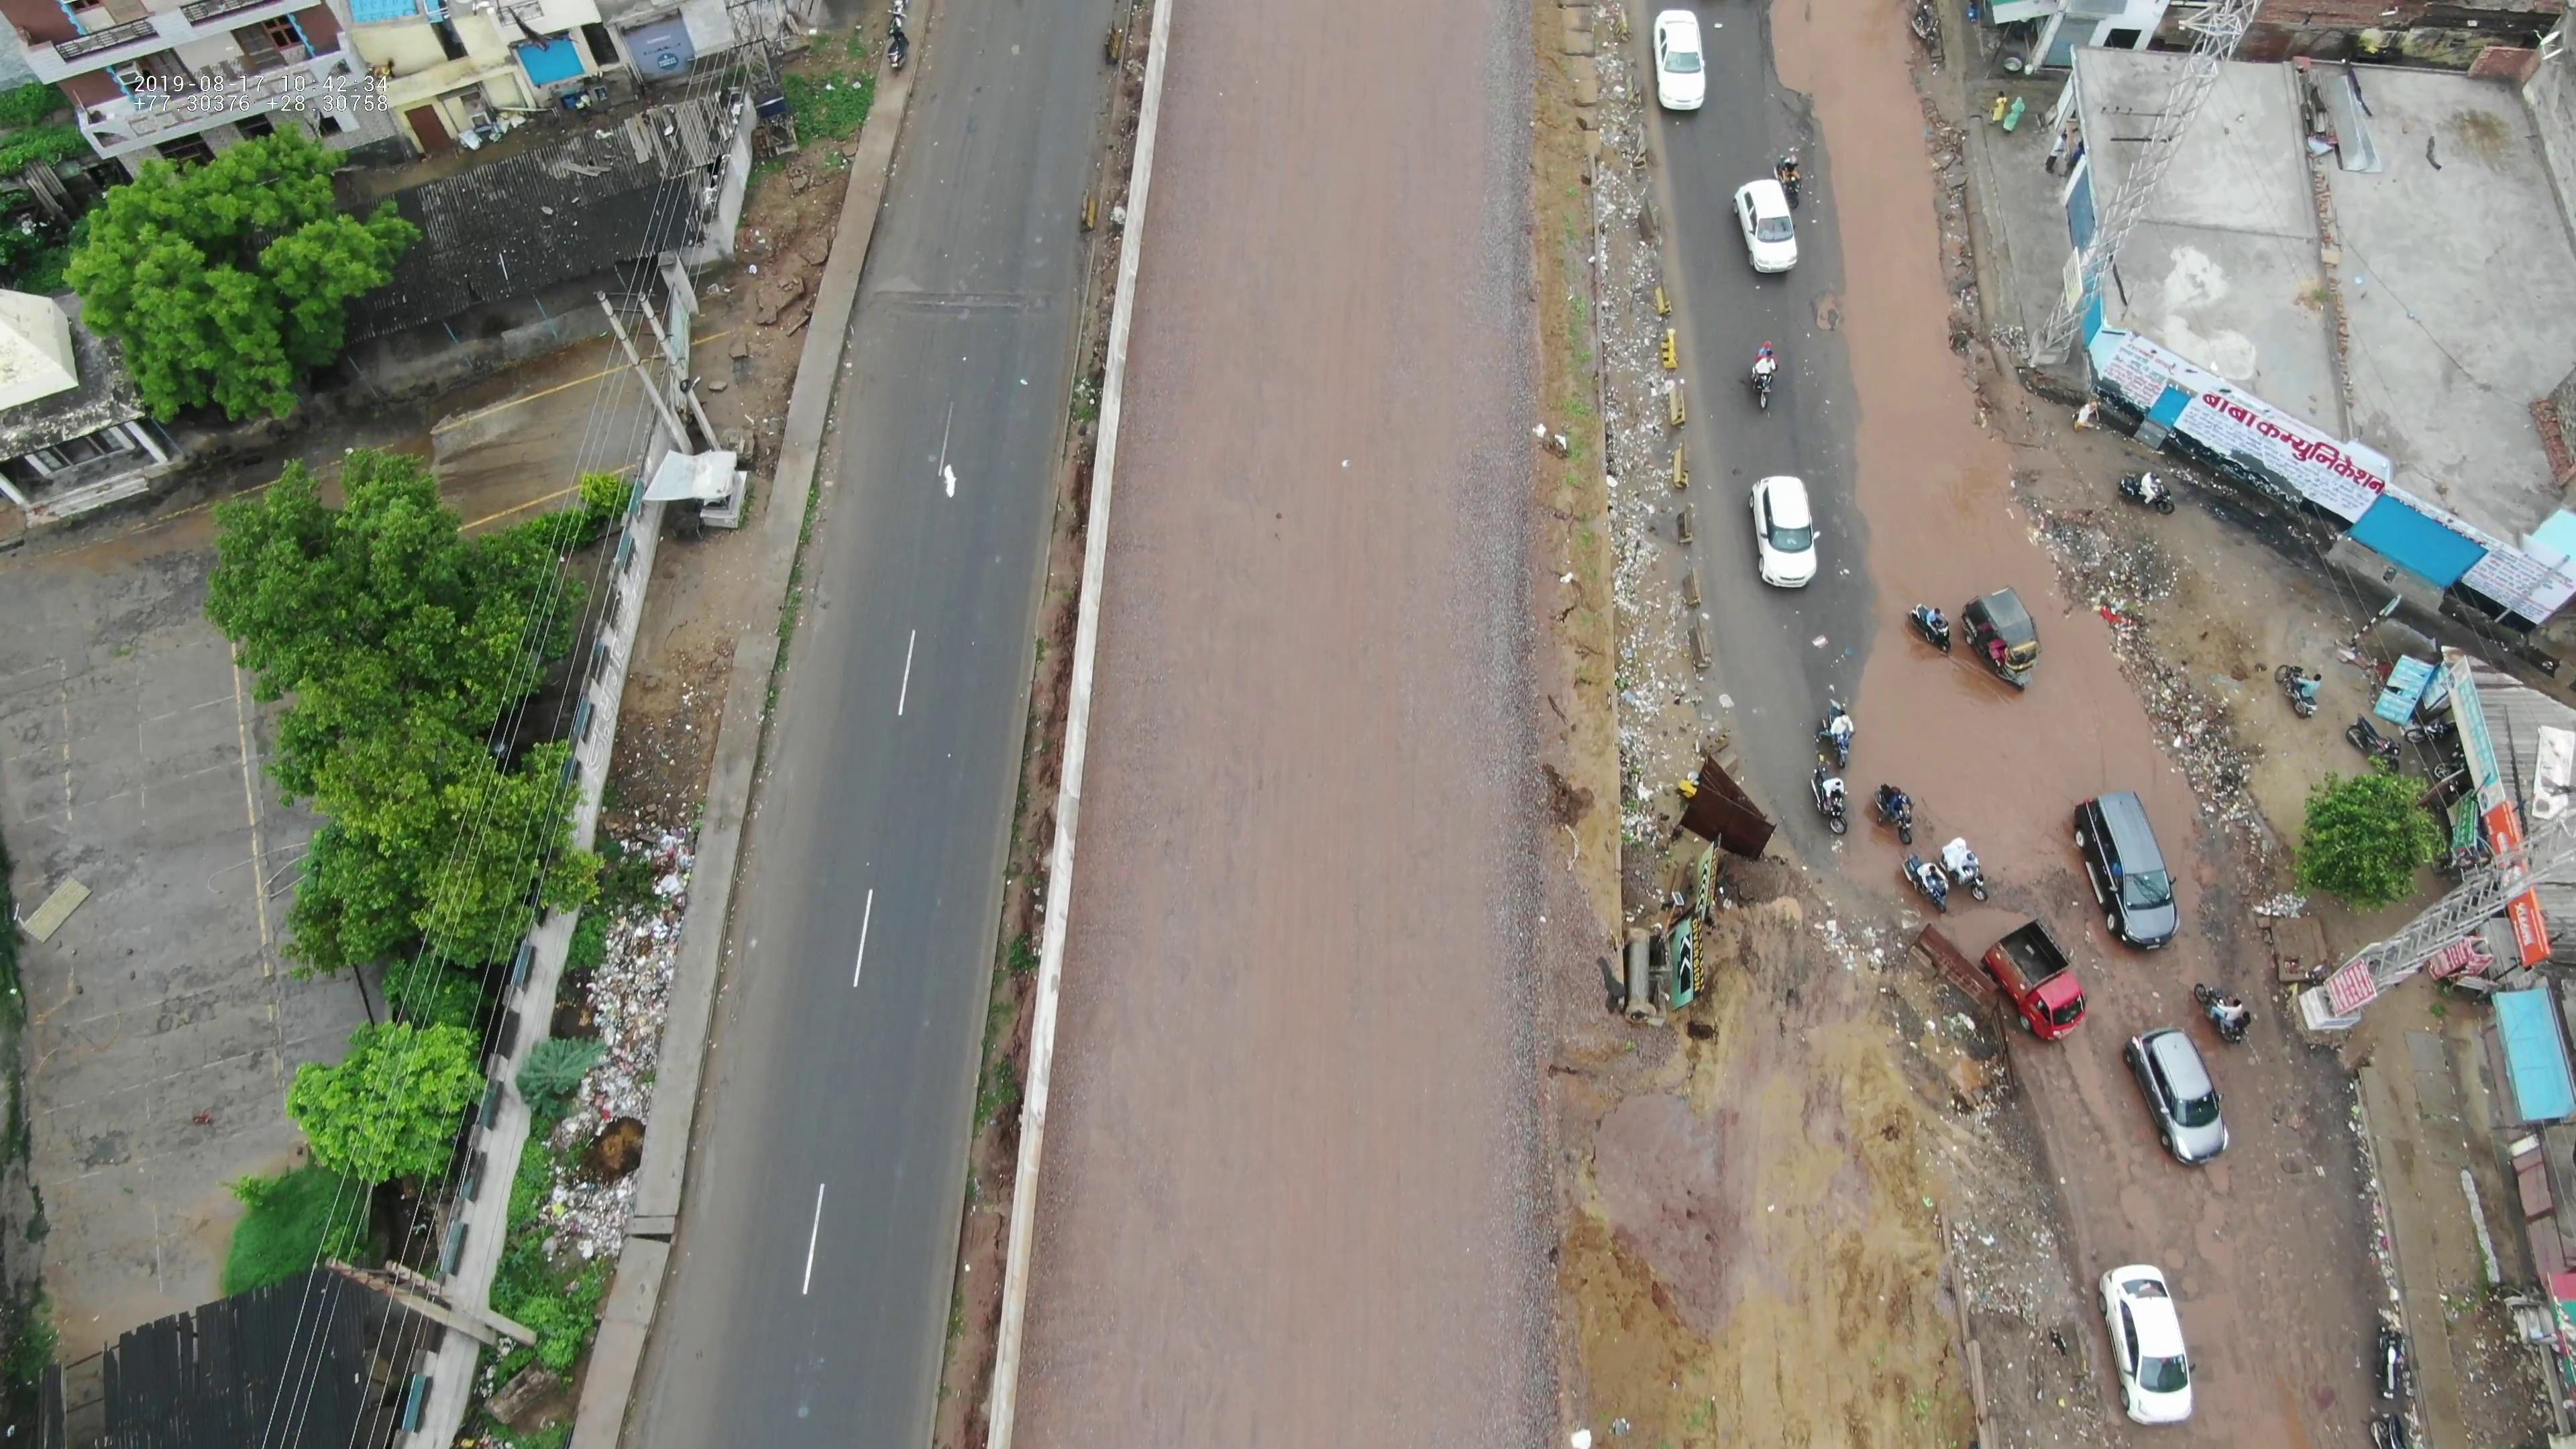Potholes: (885, 258, 1076, 364)
Waterlogging: (1824, 412, 2102, 858), (1776, 7, 1960, 382)
